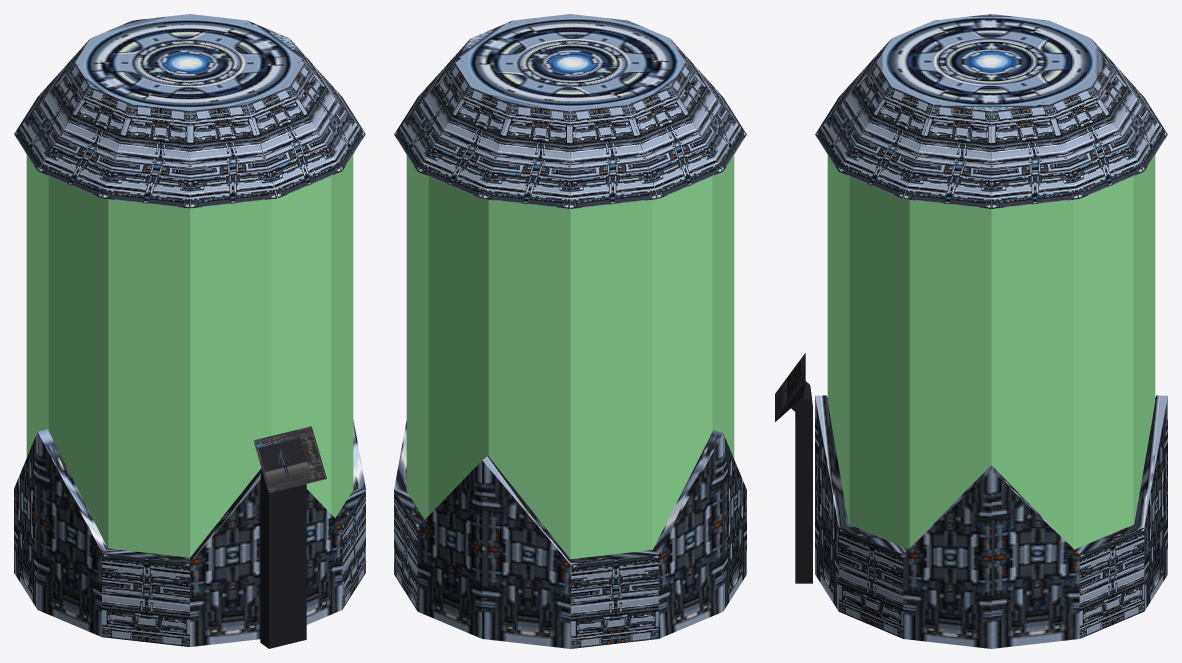
File: replicant.fbx
The picture shows the model from 3 angles, left to right: view 1: azimuth 30°, elevation 25°; view 2: azimuth 150°, elevation 25°; view 3: azimuth 270°, elevation 25°; orthographic projection.
Visible parts, largest first — view 1: Cube; view 2: Cube; view 3: Cube.
Boxes of the visible parts, x1=… form: Cube: x1=14, y1=14, x2=365, y2=648; Cube: x1=394, y1=14, x2=746, y2=648; Cube: x1=775, y1=14, x2=1167, y2=648.
Size of the model in its own units: 215 by 345 by 240.
